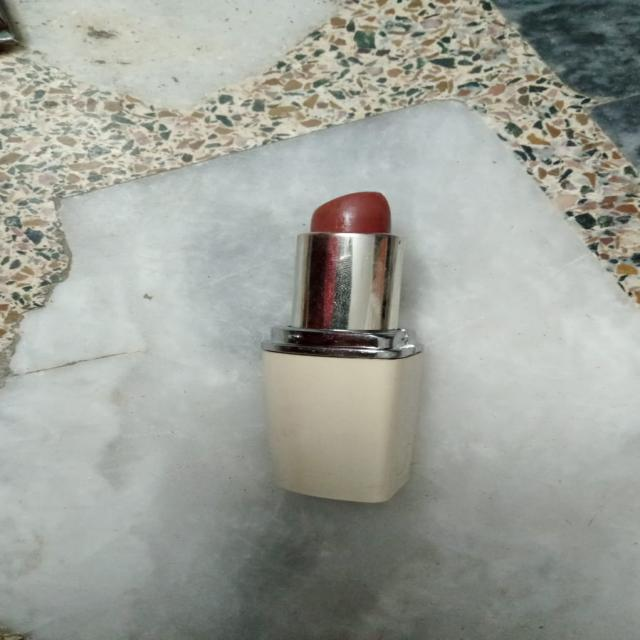lip stick: (221, 169, 450, 523)
